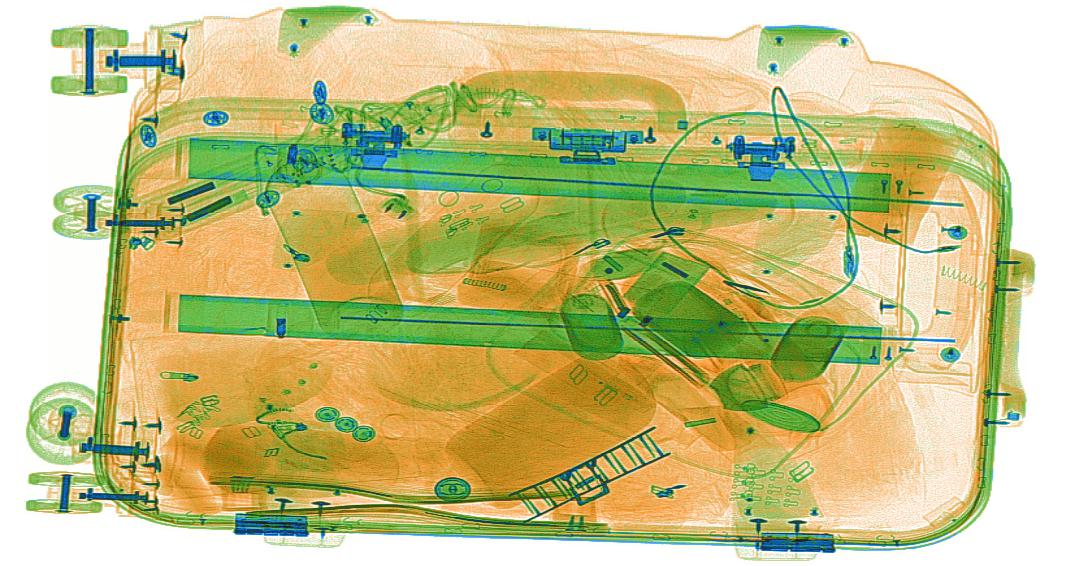plasticBottleWithaNozzle: (687, 266, 830, 405), (415, 247, 580, 318), (513, 329, 649, 411)
pressure: (263, 142, 402, 340)
